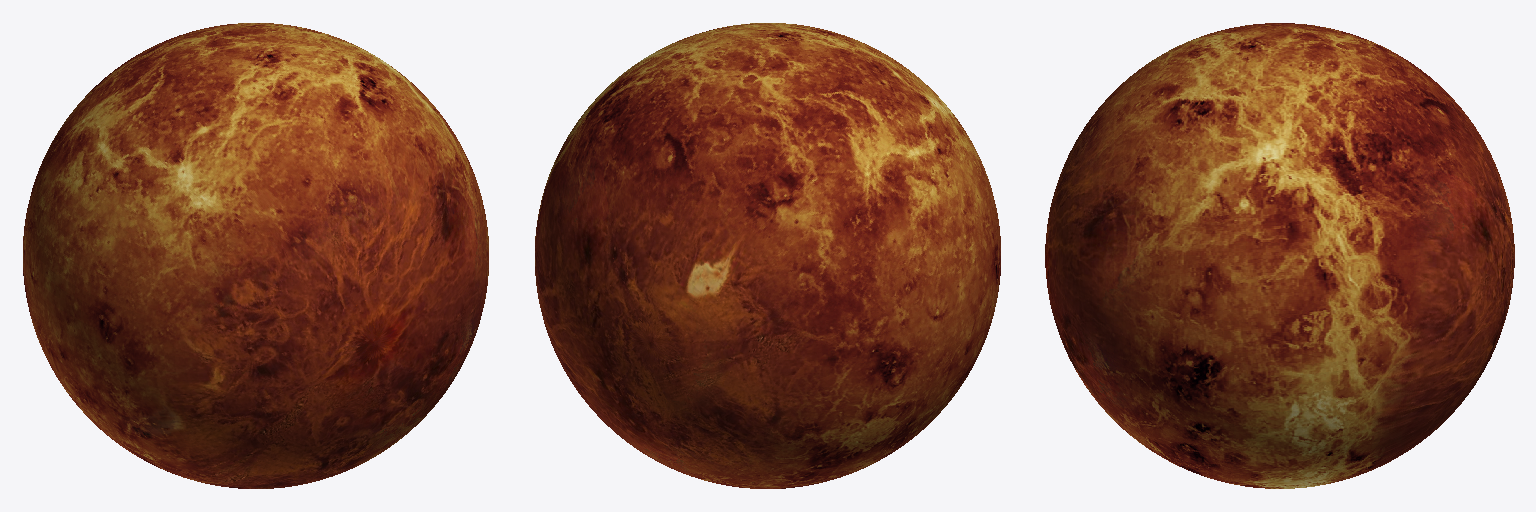
The picture shows the model from 3 angles: view 1: azimuth 30°, elevation 25°; view 2: azimuth 150°, elevation 25°; view 3: azimuth 270°, elevation 25°; orthographic projection.
Parts seen in each view (by area): view 1: Venus; view 2: Venus; view 3: Venus.
Boxes of the visible parts, box(x1,y1,x2,y2) form: Venus: box(23, 23, 488, 488); Venus: box(535, 23, 1000, 488); Venus: box(1045, 23, 1514, 488).
Bounding box in the file's own units: 977 × 977 × 988.
1 materials, 1 textured.